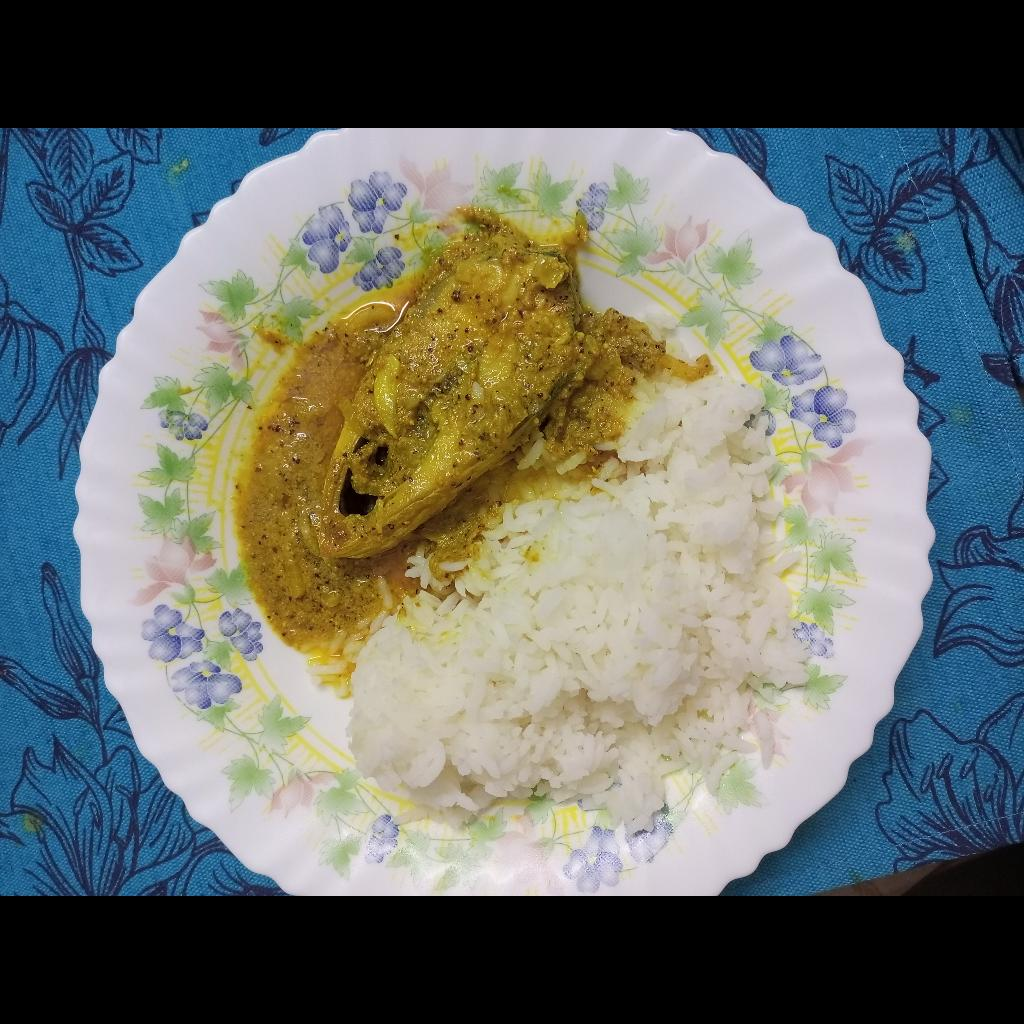fish: (238, 224, 658, 654)
rice: (318, 333, 814, 836)
